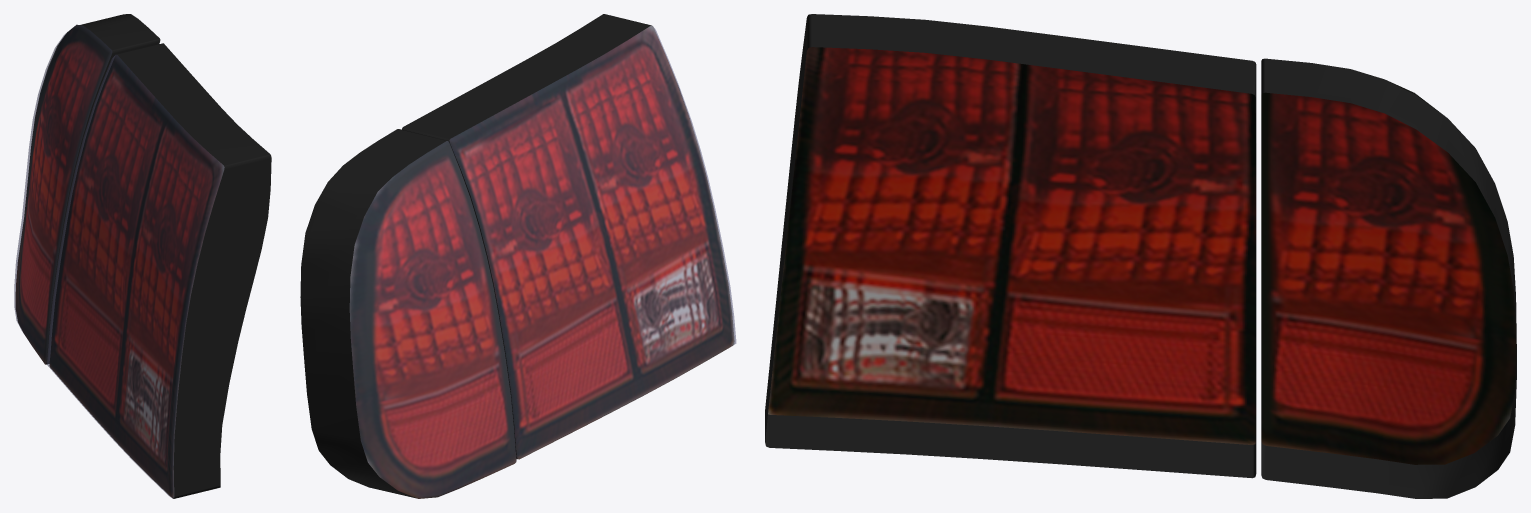
The picture shows the model from 3 angles, left to right: view 1: azimuth 30°, elevation 25°; view 2: azimuth 150°, elevation 25°; view 3: azimuth 270°, elevation 25°; orthographic projection. The views are drawn at different scales.
Parts seen in each view (by area): view 1: P222_15_541C_L_P222_15_541C_L_3_N, P222_15_541C_L_P222_15_541C_L_1_DTaSI, P222_15_541C_L_2_D_P222_15_541C_L, P222_15_541C_L_P222_15_541C_L_4_DTaSI; view 2: P222_15_541C_L_P222_15_541C_L_3_N, P222_15_541C_L_P222_15_541C_L_1_DTaSI, P222_15_541C_L_P222_15_541C_L_4_DTaSI, P222_15_541C_L_2_D_P222_15_541C_L; view 3: P222_15_541C_L_P222_15_541C_L_3_N, P222_15_541C_L_2_D_P222_15_541C_L.
Part boxes in pixels (left/top/right/bottom): P222_15_541C_L_P222_15_541C_L_3_N: left=15, top=25, right=224, bottom=498; P222_15_541C_L_P222_15_541C_L_1_DTaSI: left=47, top=55, right=224, bottom=498; P222_15_541C_L_2_D_P222_15_541C_L: left=46, top=14, right=271, bottom=498; P222_15_541C_L_P222_15_541C_L_4_DTaSI: left=14, top=25, right=111, bottom=364; P222_15_541C_L_P222_15_541C_L_3_N: left=349, top=25, right=734, bottom=498; P222_15_541C_L_P222_15_541C_L_1_DTaSI: left=449, top=26, right=736, bottom=459; P222_15_541C_L_P222_15_541C_L_4_DTaSI: left=350, top=141, right=516, bottom=498; P222_15_541C_L_2_D_P222_15_541C_L: left=300, top=14, right=651, bottom=498; P222_15_541C_L_P222_15_541C_L_3_N: left=768, top=47, right=1516, bottom=464; P222_15_541C_L_2_D_P222_15_541C_L: left=765, top=14, right=1516, bottom=498.
Size of the model in its own units: 15.23 by 25.16 by 38.08.
